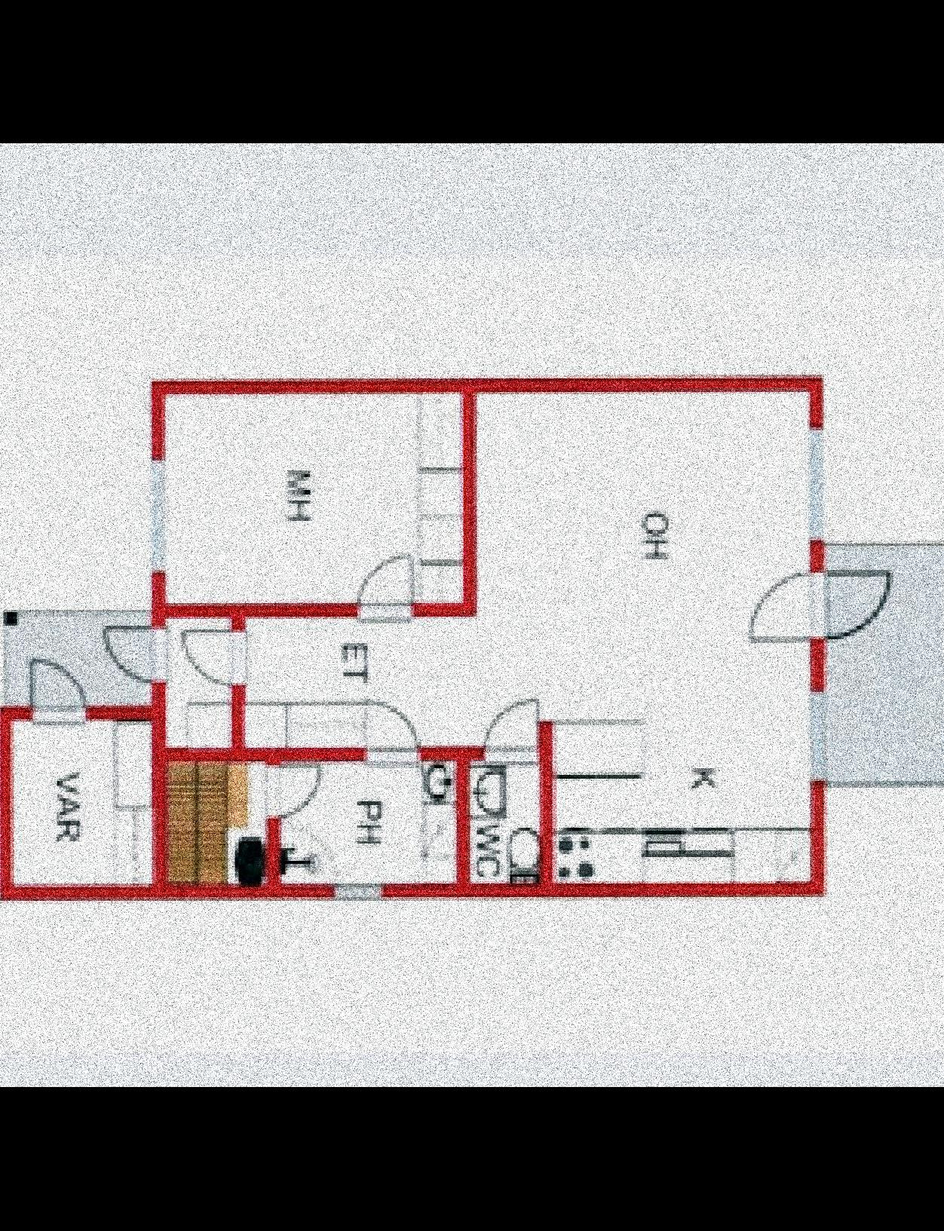door: (245, 395, 808, 881), (166, 392, 467, 603), (824, 546, 944, 779), (281, 761, 464, 883), (15, 722, 151, 885), (171, 766, 268, 885), (475, 765, 539, 881)
window: (745, 569, 895, 653), (476, 691, 542, 763), (178, 627, 252, 691), (356, 553, 417, 623), (101, 625, 164, 691), (363, 702, 422, 770), (31, 658, 86, 727), (257, 761, 320, 821)
zone: (150, 461, 167, 571), (809, 695, 824, 781), (809, 429, 819, 542), (333, 883, 380, 899)
